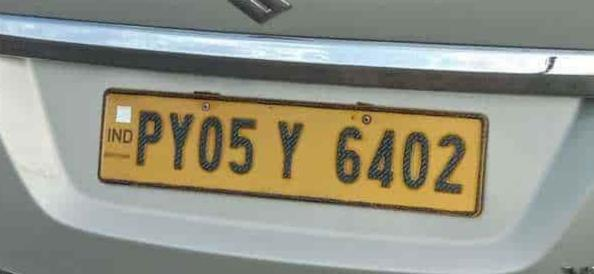0: (400, 123, 433, 195), (197, 111, 224, 175)
2: (435, 130, 466, 201)
4: (367, 118, 399, 189)
5: (228, 112, 260, 179)
6: (330, 118, 364, 190)
P: (132, 104, 164, 171)
Y: (273, 113, 310, 186), (167, 106, 193, 173)
